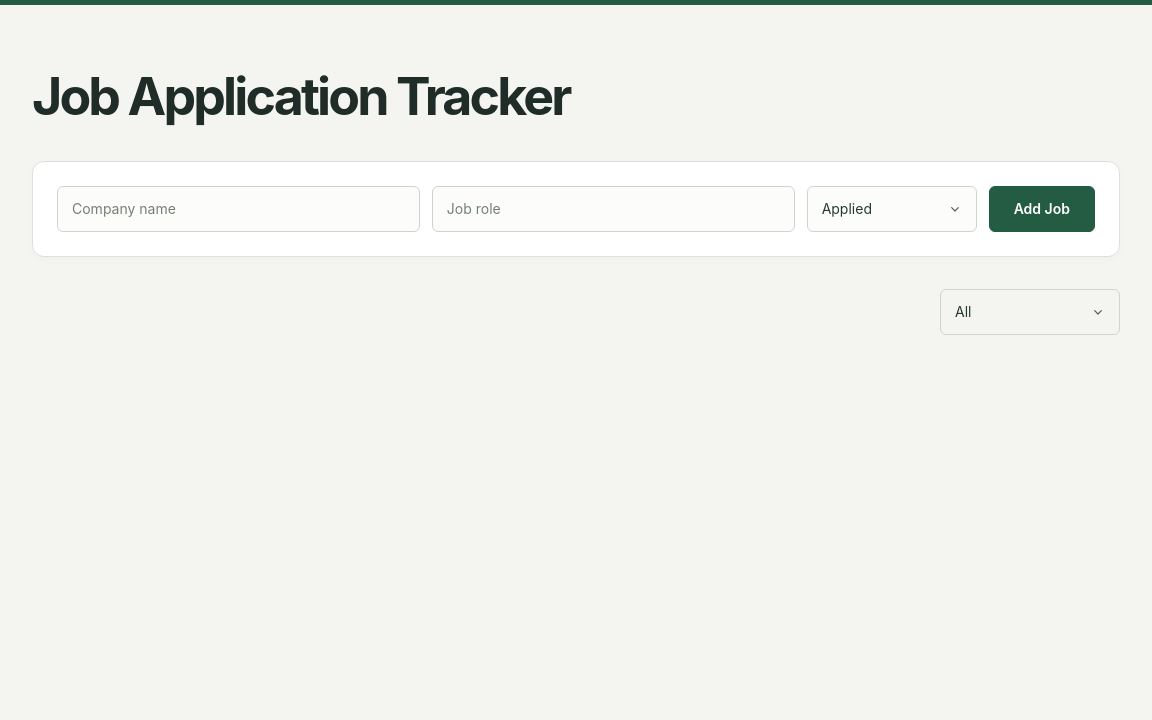
Job Application Tracker › adds a new job
The image size is (1152, 720).
In the field with placeholder "Company name": (238, 209) left=57, top=186, right=420, bottom=232, type "OpenAI"
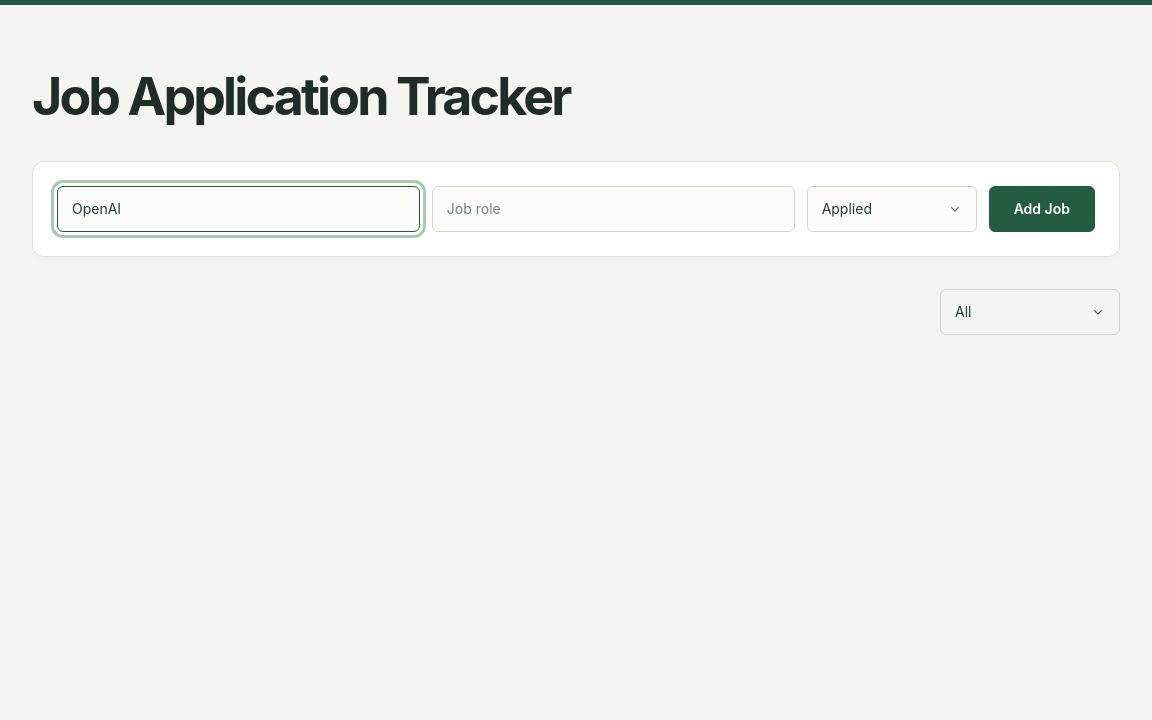
In the field with placeholder "Job role": (613, 209) left=432, top=186, right=795, bottom=232, type "Backend Developer"
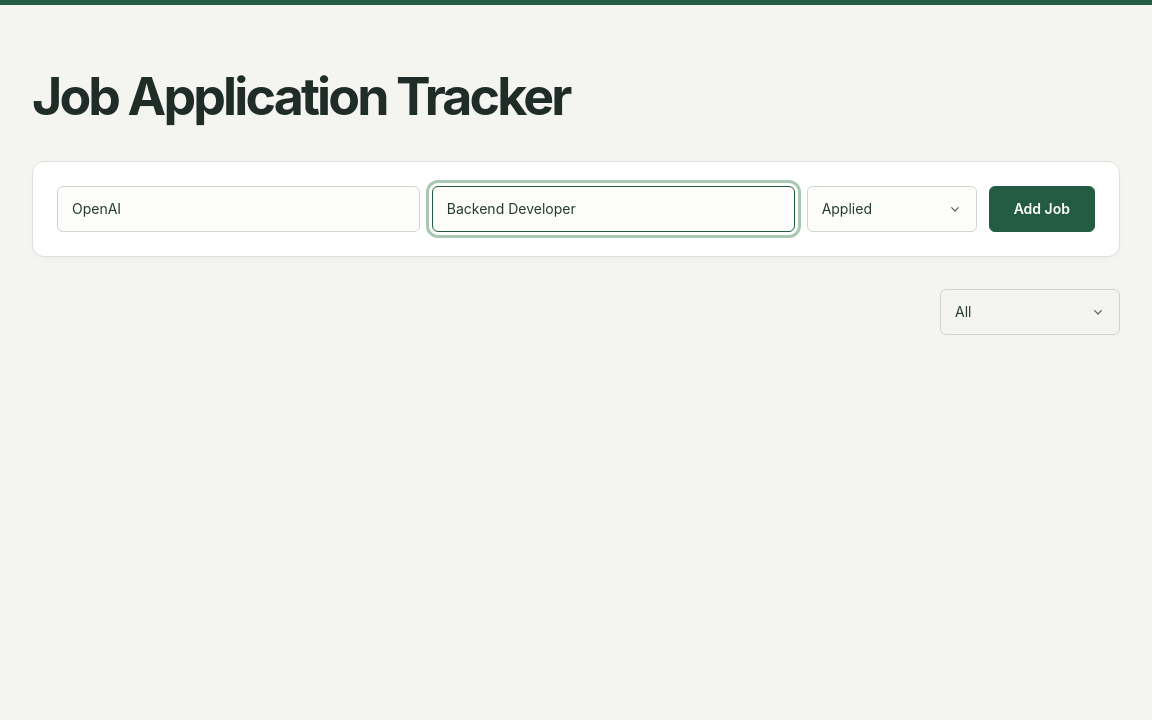
Click the button "Add Job": (1042, 209) left=989, top=186, right=1095, bottom=232
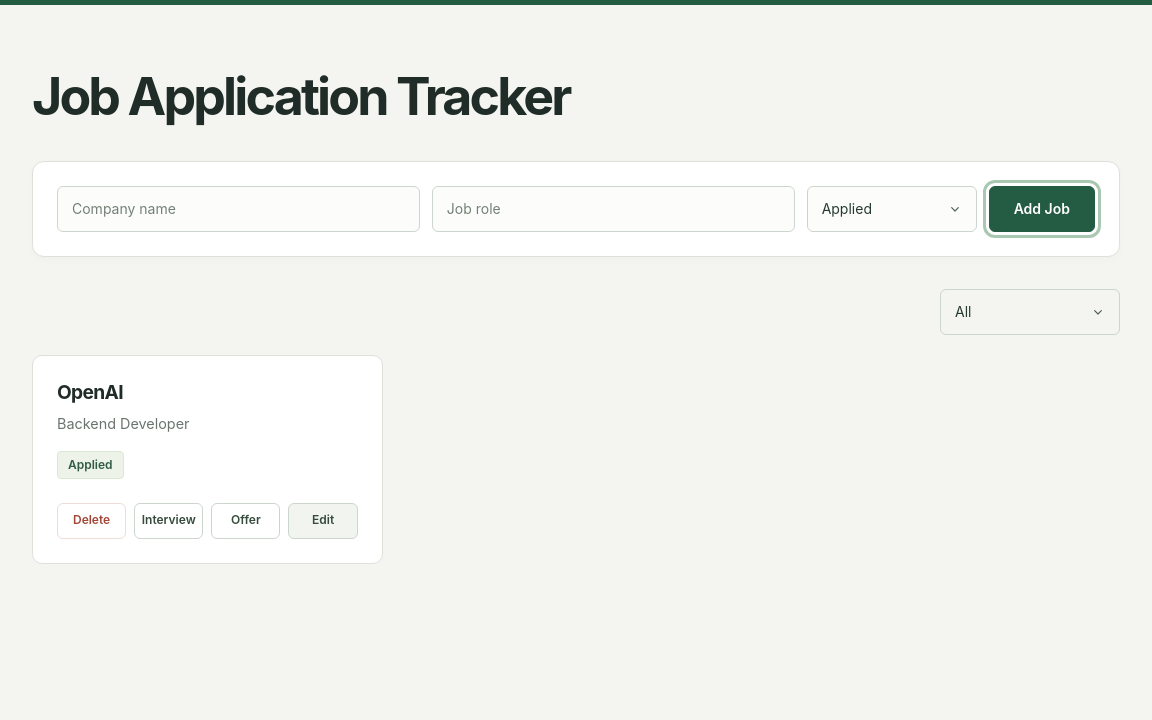
Now the heading "OpenAI" is shown, box left=57, top=380, right=123, bottom=404
Now the text "Backend Developer" is shown, box left=57, top=415, right=190, bottom=432
